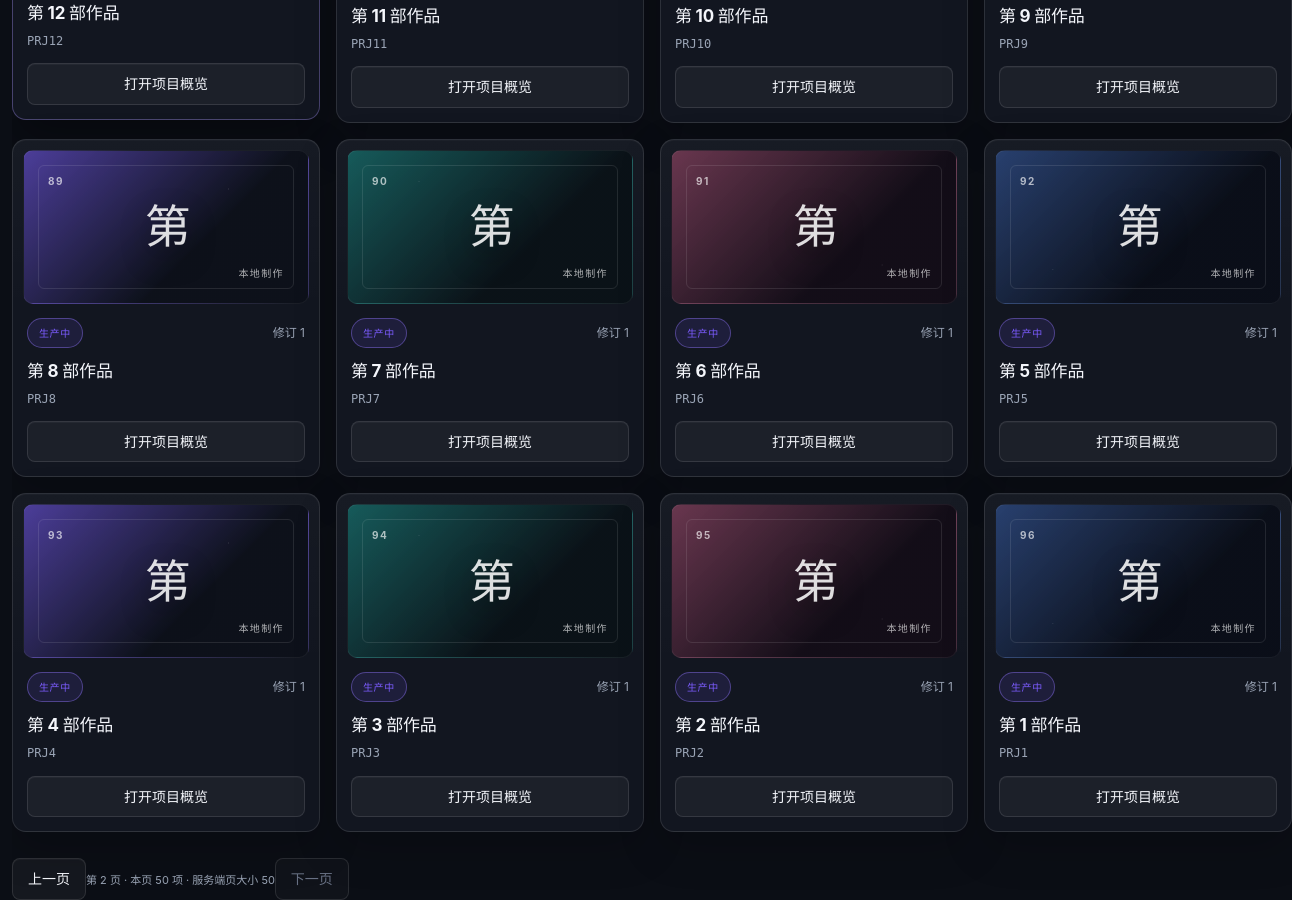
Test case: ProjectsPage recent projects › falls back to a valid page marker without dropping already loaded rows when the last page empties
(page scrolled)
Expected: the text "第 2 页 · 本页 50 项 · 服务端页大小 50" is shown, [86,873,275,887]
Click the button "上一页": coordinates (49, 879) [12,858,86,899]
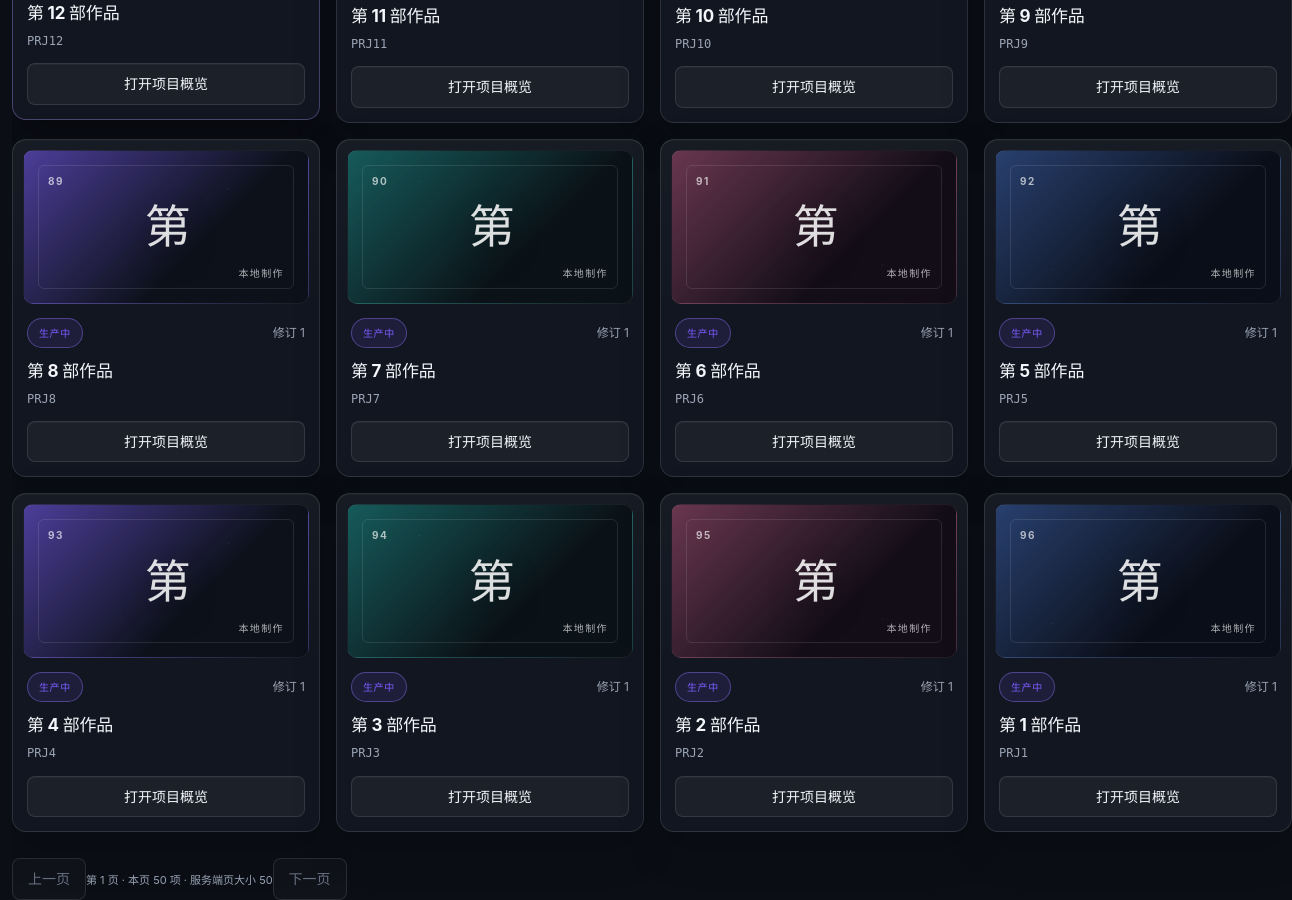
Expected: the text "第 1 页 · 本页 50 项 · 服务端页大小 50" is shown, [86,873,273,887]
Expected: the text "第 2 页" is gone
